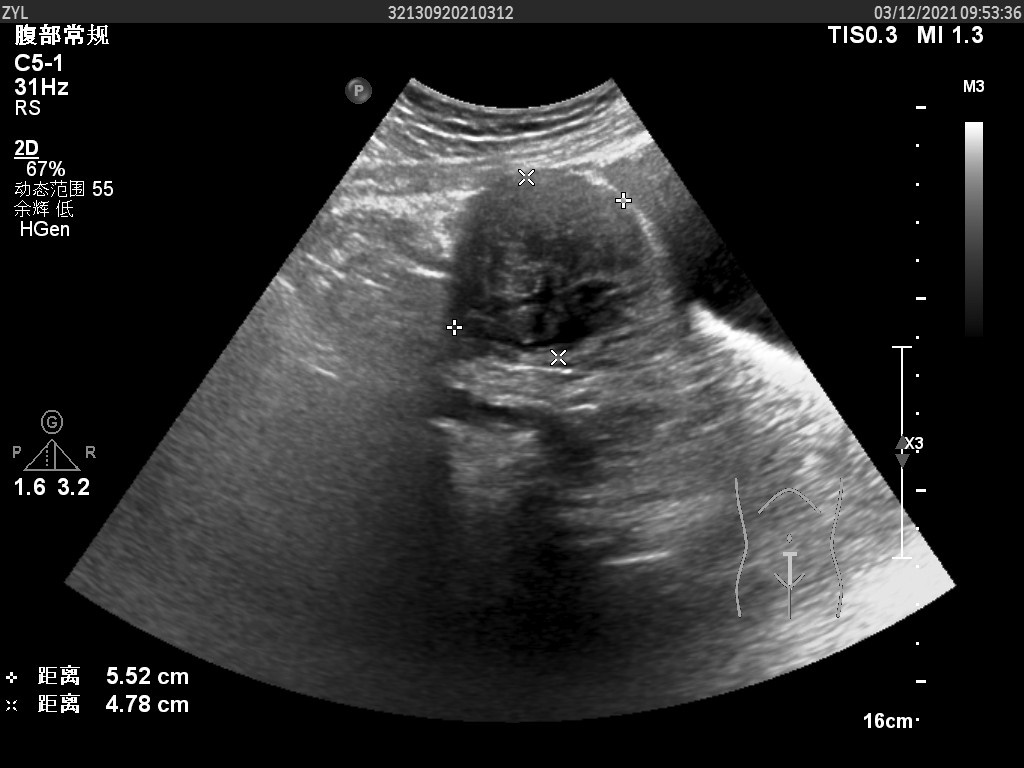肌瘤: (476, 184, 630, 340)
